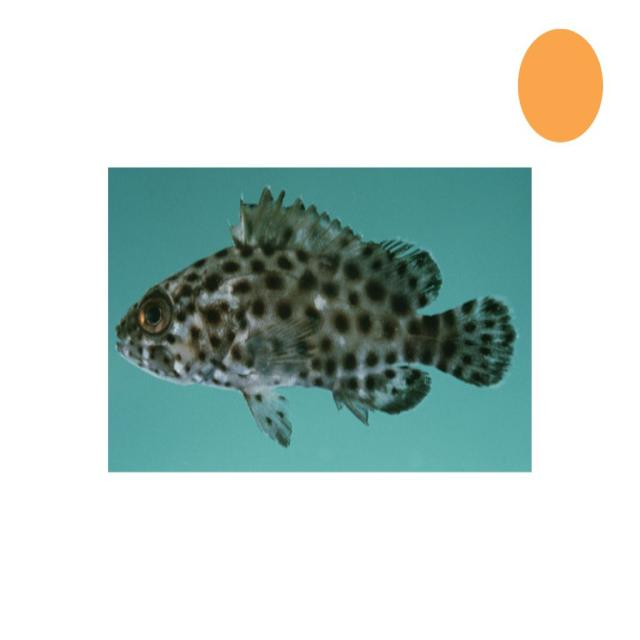ikan: (114, 184, 517, 448)
